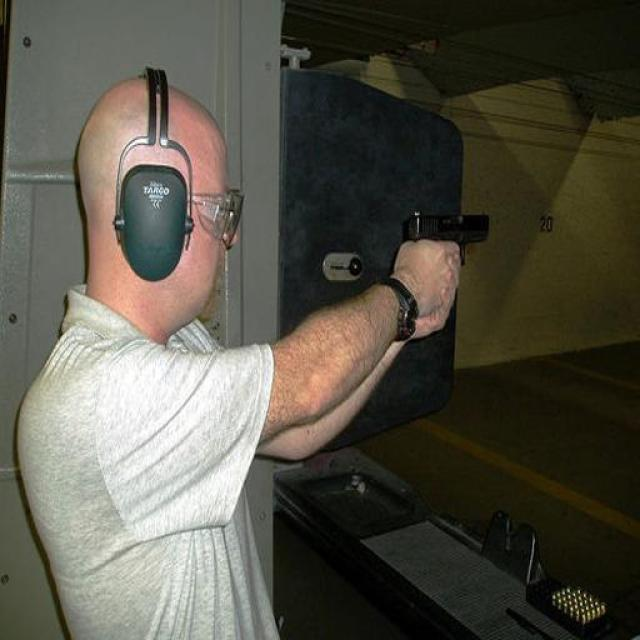pistol: (400, 207, 490, 267)
